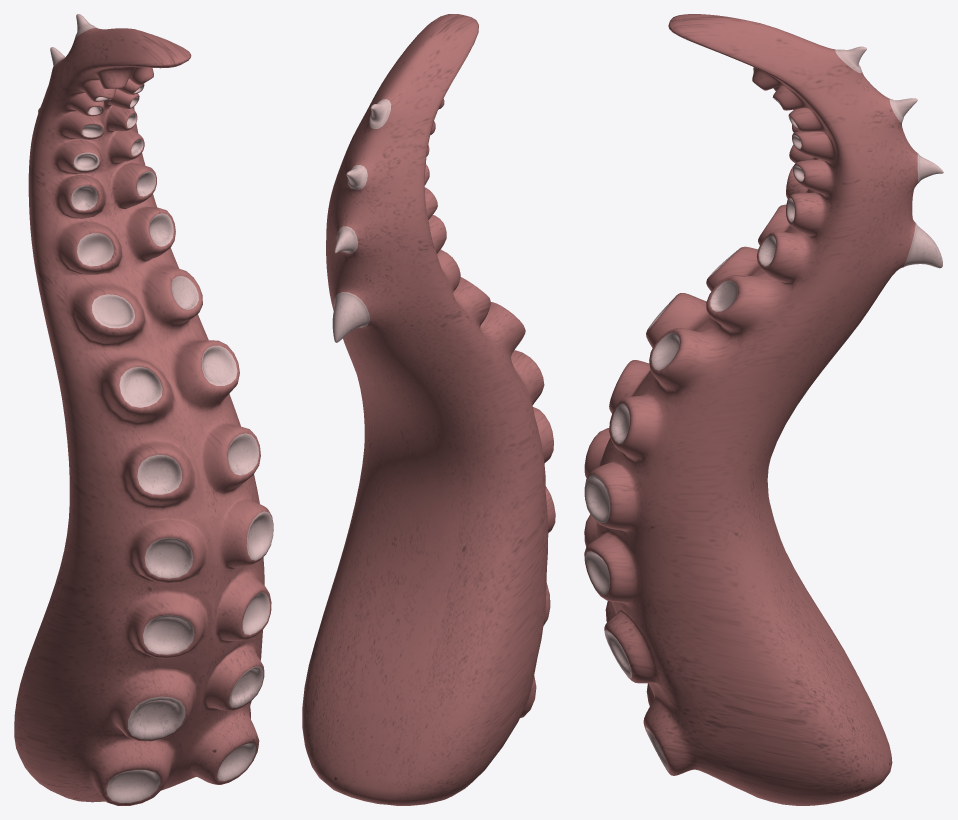
File: tentacle_new.fbx
The picture shows the model from 3 angles, left to right: view 1: azimuth 30°, elevation 25°; view 2: azimuth 150°, elevation 25°; view 3: azimuth 270°, elevation 25°; orthographic projection. The views are drawn at different scales.
Parts seen in each view (by area): view 1: pCylinder3; view 2: pCylinder3; view 3: pCylinder3.
Part boxes in pixels (x1,y1,x2,y2): pCylinder3: (14,14,273,805); pCylinder3: (302,14,555,805); pCylinder3: (584,14,943,805).
Bounding box in the file's own units: 4.21 × 16.01 × 6.76.
1 material, 1 textured.
